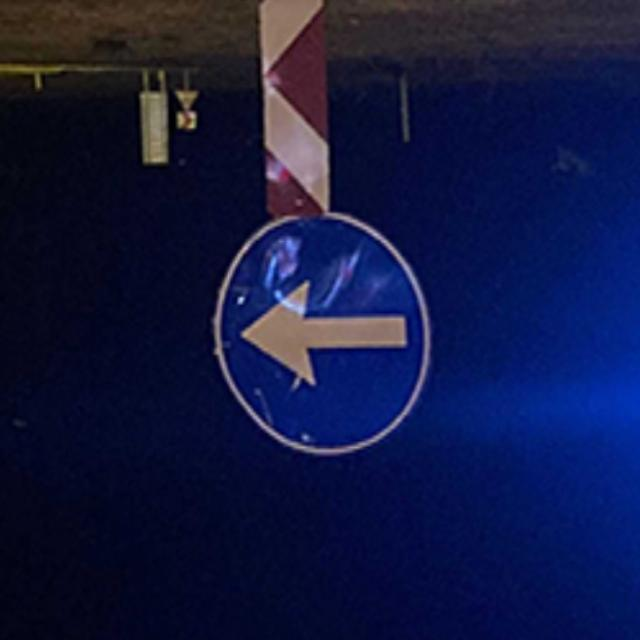Turn Left: (212, 213, 430, 456)
